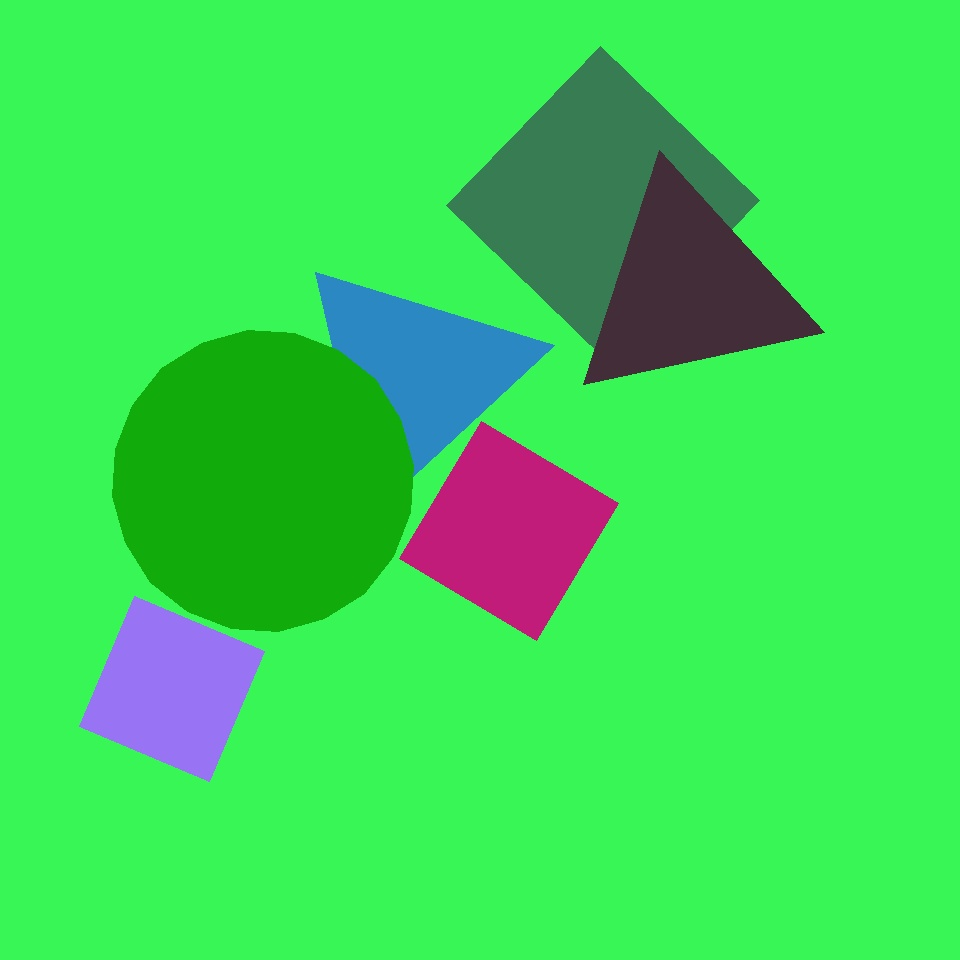circle: (294, 256, 534, 499), (568, 172, 809, 406)
square: (408, 210, 767, 569), (447, 46, 760, 360), (399, 421, 618, 640), (80, 596, 264, 781), (266, 226, 433, 393)
triangle: (113, 331, 414, 632), (647, 234, 854, 442)
